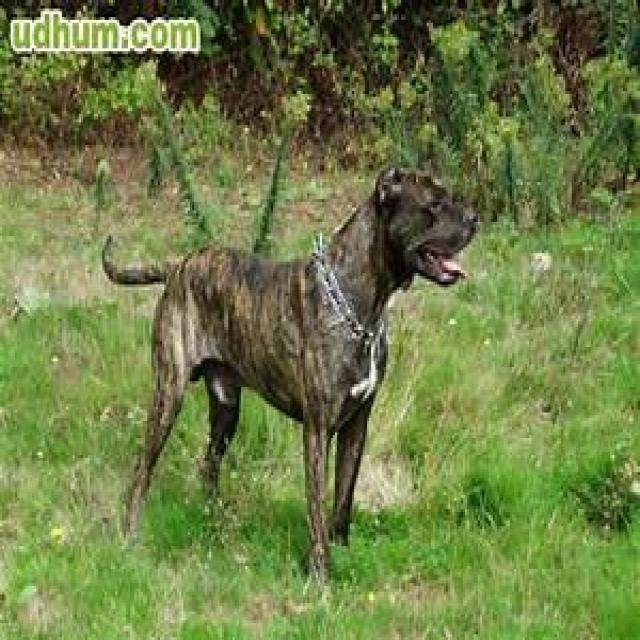KOPEK: (99, 151, 478, 570)
